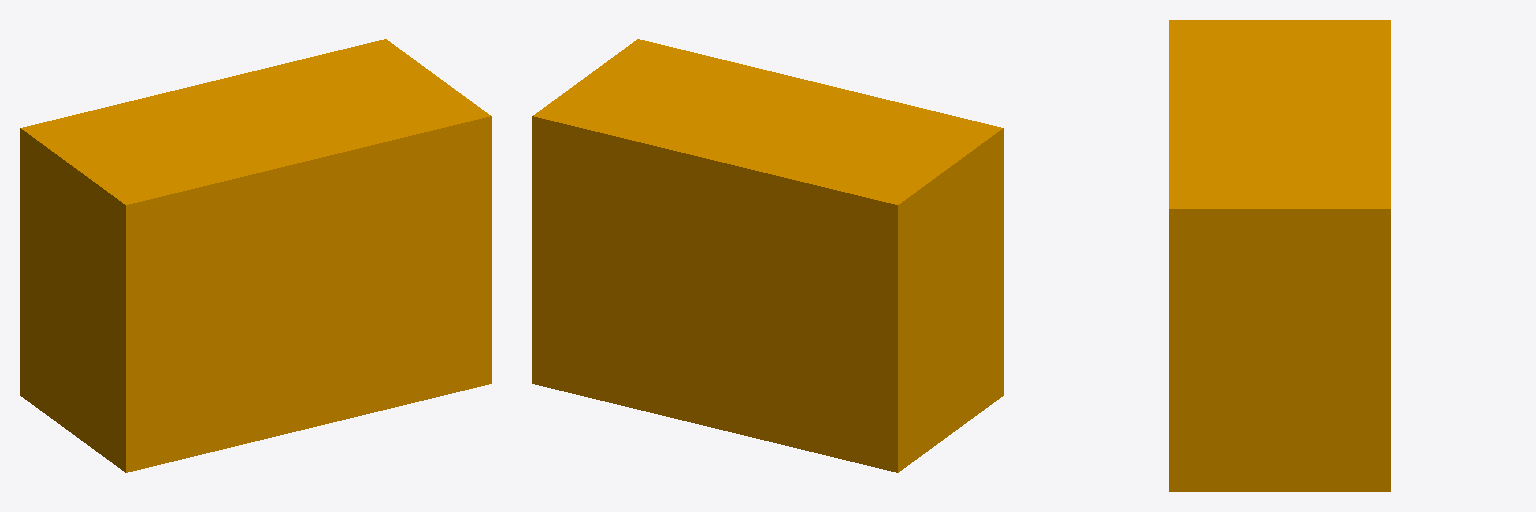
URDF robot description (engine_main_simple_orig.off):
<?xml version="1.0"?>
<robot name="engine_main_simple_orig.off">
	<link name="engine_main_simple_orig.off">
		<inertial>
			<!--origin xyz="0 0 0" rpy="0 0 0" /-->
			<mass value="0.5" />
			<!--inertia ixx="0.000360" ixy="0" ixz="0" iyy="0.0000615" iyz="0" izz="0.00036" /-->
		</inertial>
    		<visual>
	      		<!--origin rpy="0 0 0" xyz="0 0 0"/-->
      			<geometry>
        			<mesh filename="engine_main_simple_orig.off.obj"/>
      			</geometry>
         	</visual>
    		<collision>
      			<!--origin rpy="0 0 0" xyz="0 0 0"/-->
      			<geometry>
        			<mesh filename="engine_main_simple_orig.off.obj"/>
      			</geometry>
    		</collision>
	</link>
</robot>

--- Render facts (derived) ---
3 views of the same robot in one strip: view 1: azimuth 30°, elevation 25°; view 2: azimuth 150°, elevation 25°; view 3: azimuth 270°, elevation 25° (orthographic).
Model engine_main_simple_orig.off with 1 links and 0 joints (none), rooted at engine_main_simple_orig.off, posed all joints at 0.
Visible links, largest first — view 1: engine_main_simple_orig.off; view 2: engine_main_simple_orig.off; view 3: engine_main_simple_orig.off.
Link boxes in pixels (box(x1,y1,x2,y2)): engine_main_simple_orig.off: box(20, 39, 491, 472); engine_main_simple_orig.off: box(532, 39, 1003, 472); engine_main_simple_orig.off: box(1169, 20, 1390, 491).
Bounding box of the posed robot: 10 × 5 × 7 m (x, y, z).
1 mesh visuals loaded from 1 distinct referenced files (1 OBJ).